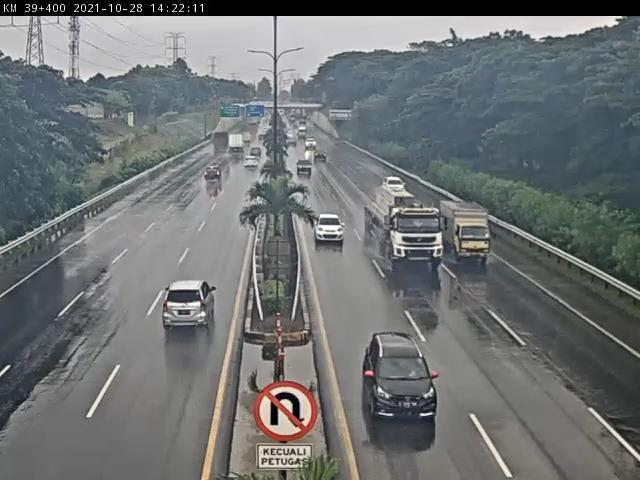car: (359, 330, 443, 425), (157, 279, 217, 335), (315, 212, 347, 243), (203, 167, 225, 183), (383, 175, 404, 187)
truck: (366, 188, 446, 271), (442, 203, 494, 264)
